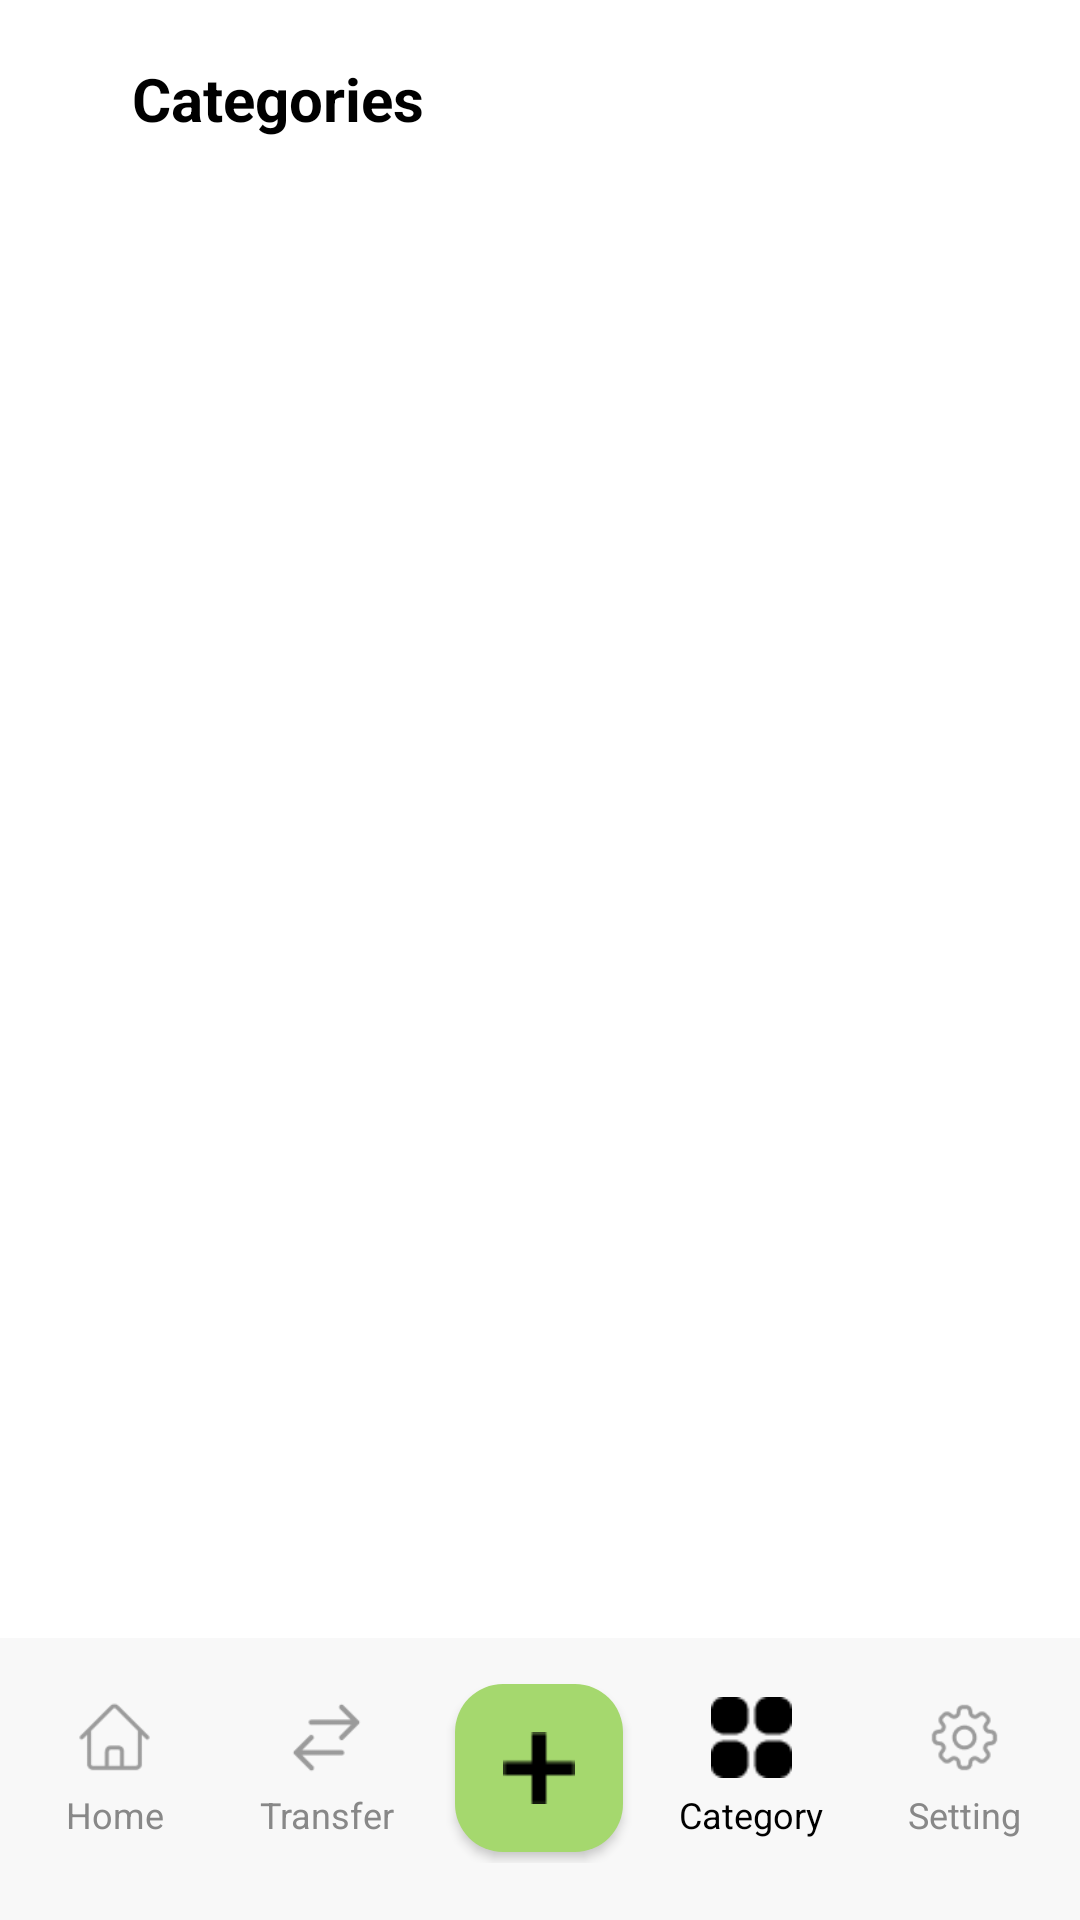

Where to tap for icons on this 1080px x 1920px app screen, as [x,y]:
plusicon: [539,1768]
transaction: [326,1737]
